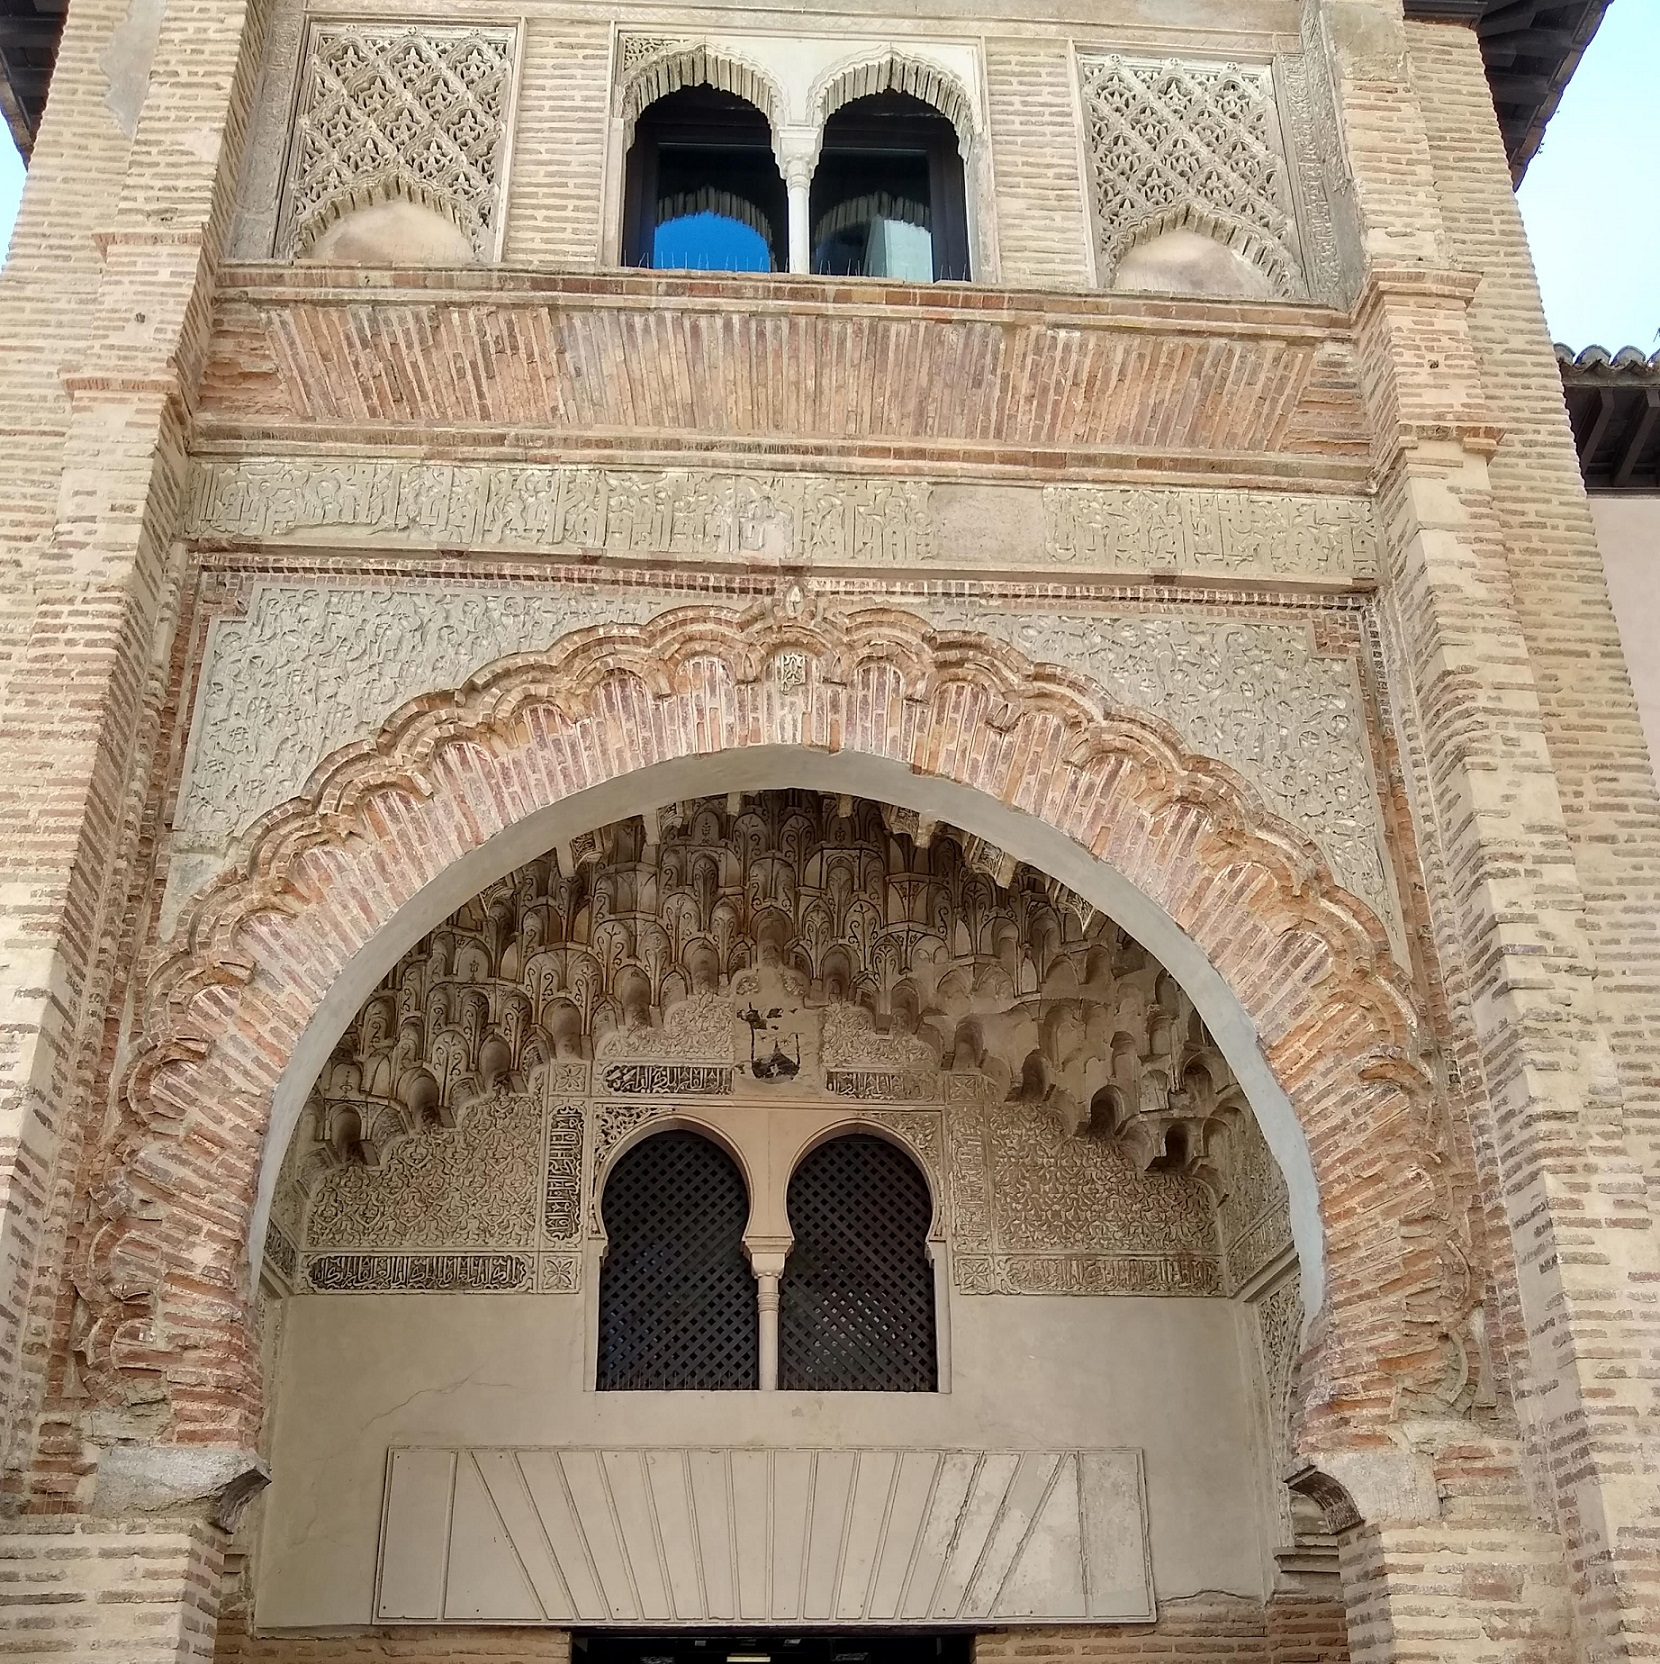arco-herradura: (143, 716, 1424, 1582), (585, 1099, 769, 1273), (768, 1109, 949, 1273)
dintel-adovelado: (261, 277, 1324, 477), (467, 1441, 1075, 1621)
